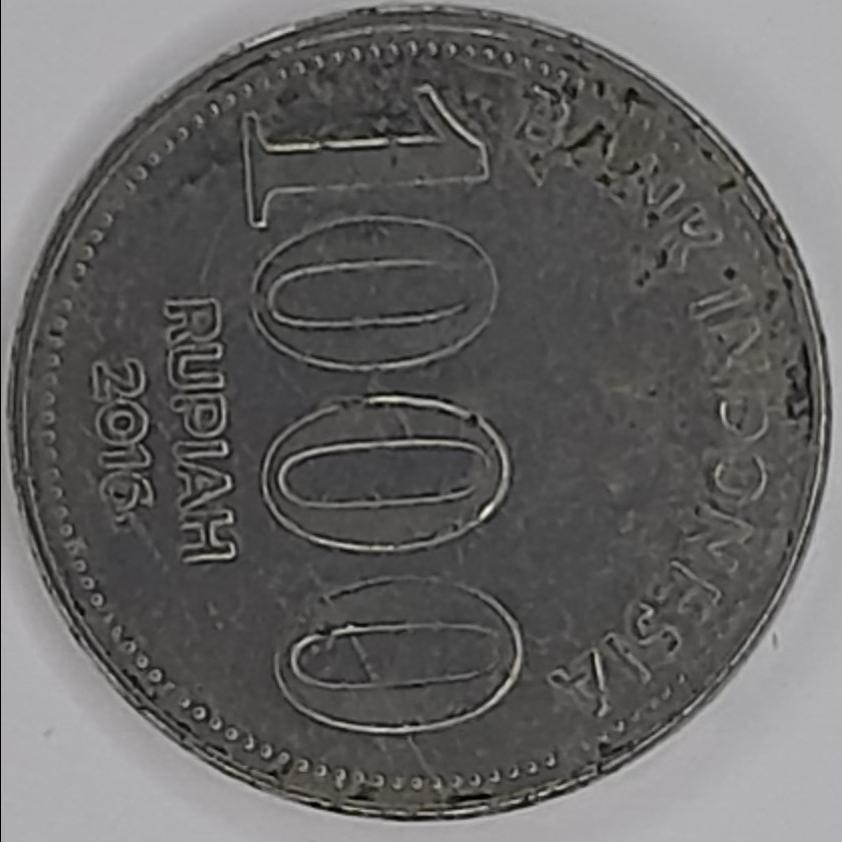coin_1000_e2016: (14, 17, 831, 842)
